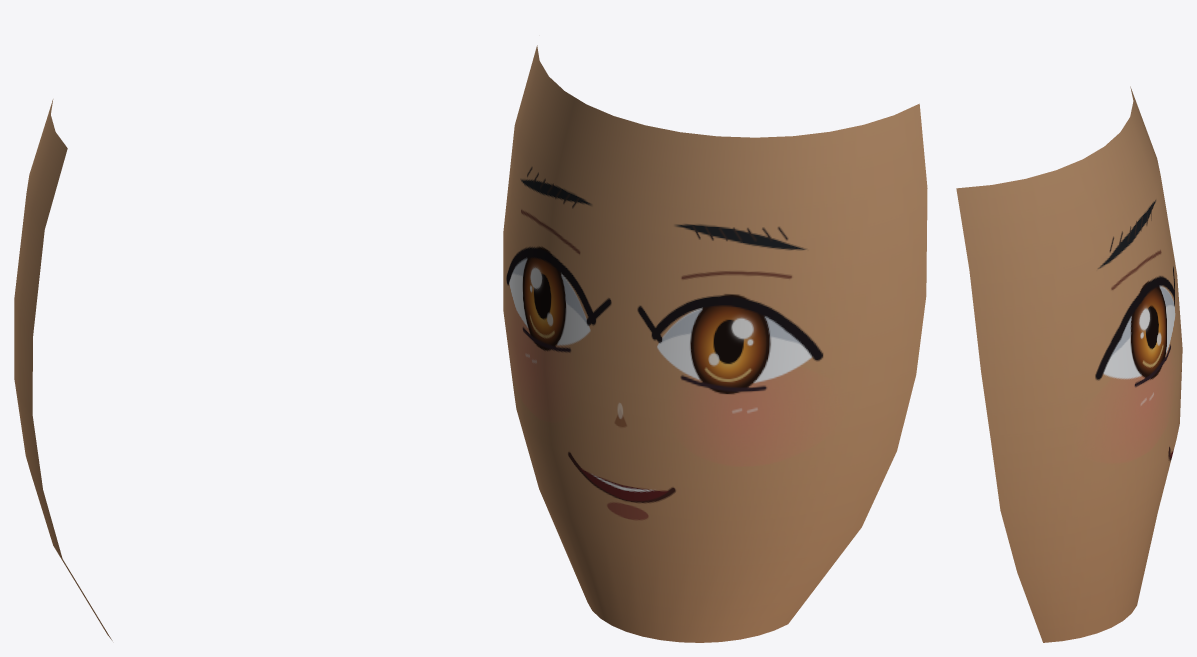
3 views of the same model, side by side, from view 1: azimuth 30°, elevation 25°; view 2: azimuth 150°, elevation 25°; view 3: azimuth 270°, elevation 25° (orthographic). The views are drawn at different scales.
Visible parts, largest first — view 1: Node; view 2: Node; view 3: Node.
Boxes of the visible parts, x1,y1,x2,y2 form: Node: (14, 99, 112, 640); Node: (503, 45, 927, 642); Node: (956, 86, 1182, 642).
Size of the model in its own units: 0.1667 by 0.2 by 0.0827.
Materials: 1 (1 with a texture image).
